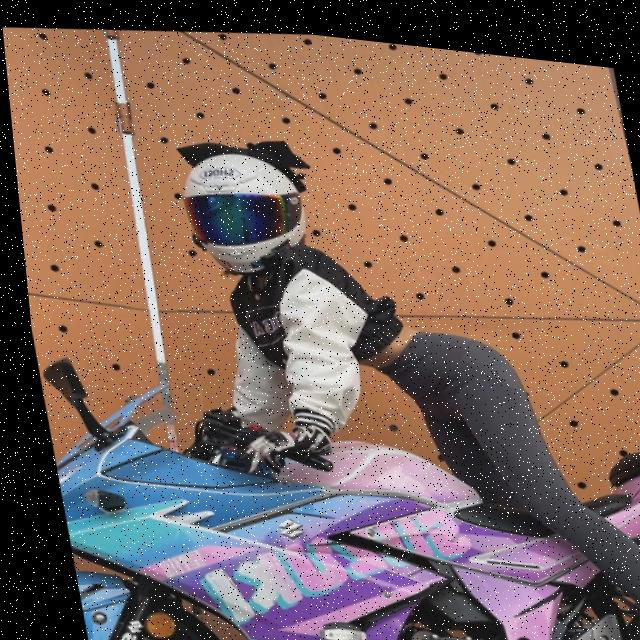helmet: (166, 134, 316, 286)
